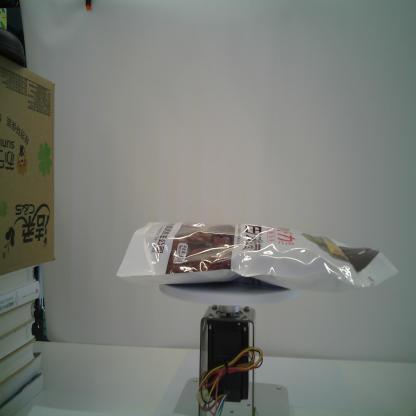Dried Food: (114, 218, 400, 296)
